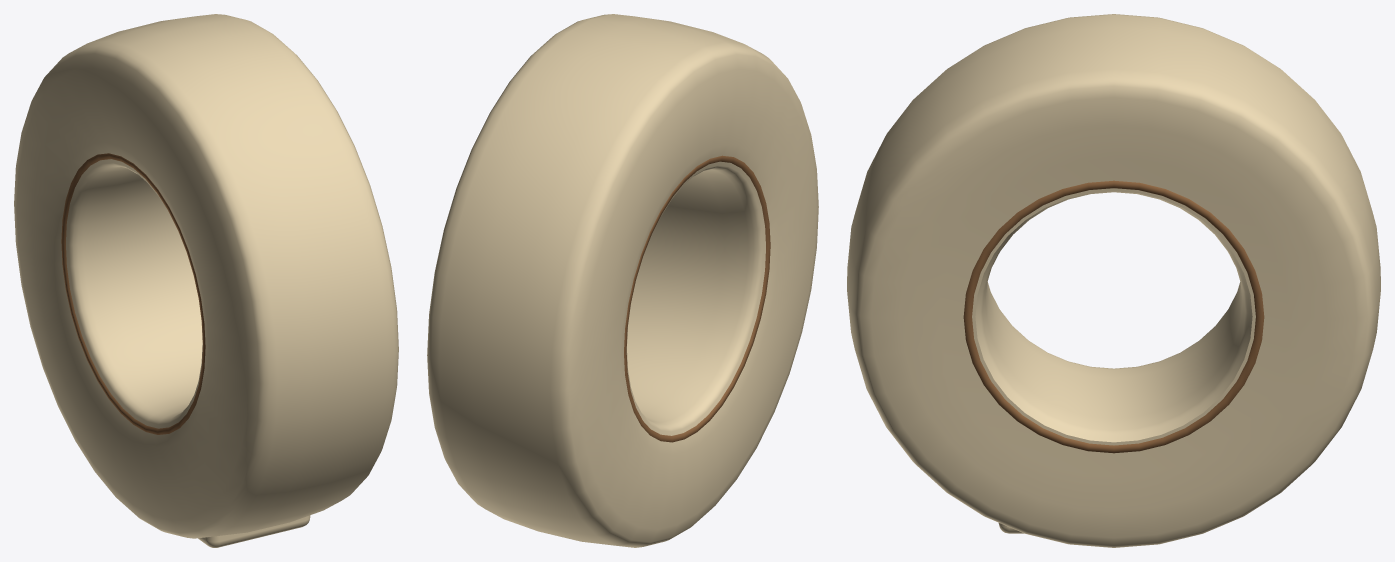
File: tape-light.glb
3 renders of one model, left to right at view 1: azimuth 30°, elevation 25°; view 2: azimuth 150°, elevation 25°; view 3: azimuth 270°, elevation 25°, orthographic. The views are drawn at different scales.
Visible parts, largest first — view 1: cream, edge; view 2: cream, edge; view 3: cream, edge.
Boxes of the visible parts, x1,y1,x2,y2 form: cream: (14, 14, 398, 547); edge: (61, 153, 205, 434); cream: (427, 14, 818, 547); edge: (624, 155, 770, 442); cream: (847, 14, 1380, 547); edge: (963, 180, 1264, 453).
Bounding box in the file's own units: 0.2336 × 0.6937 × 0.6937.
